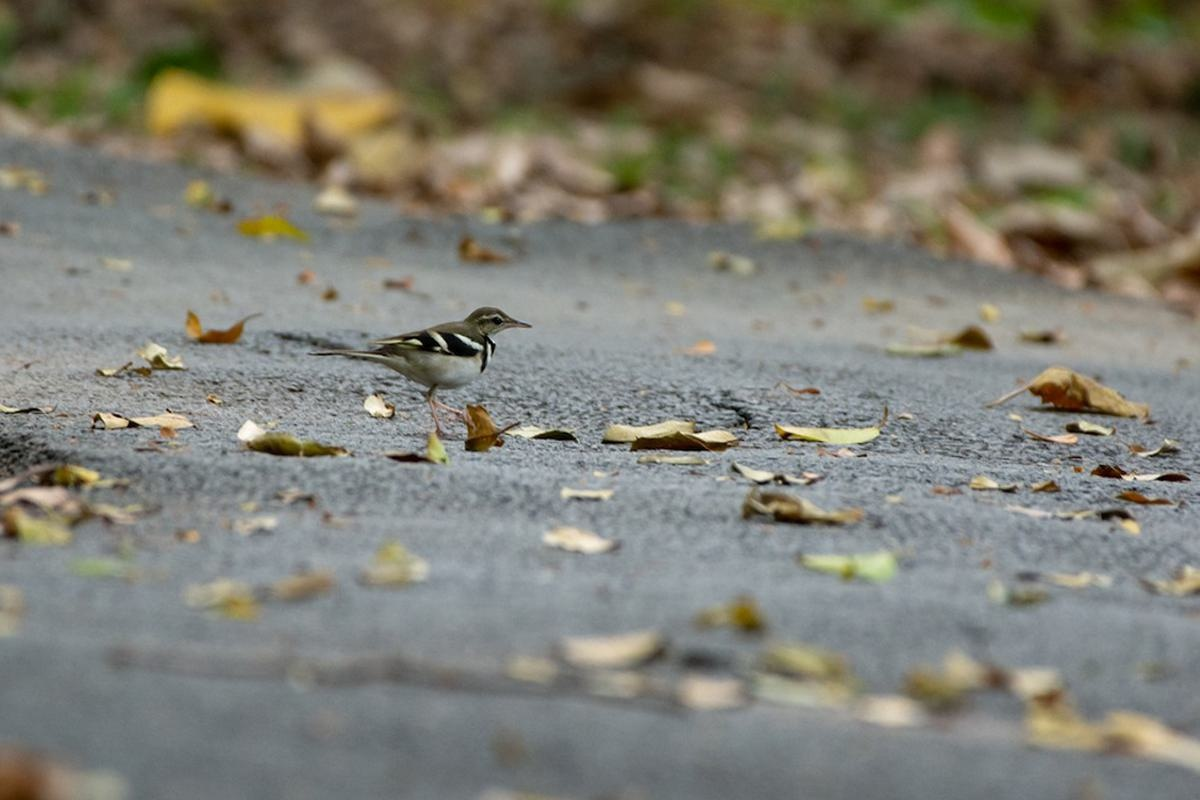wagtail: (340, 291, 534, 430)
